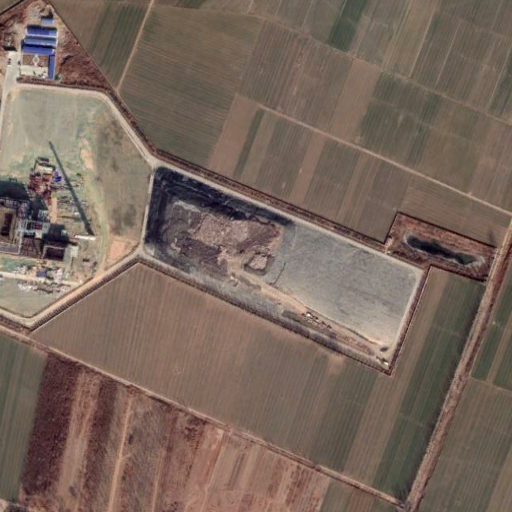lf: (138, 165, 423, 371)
